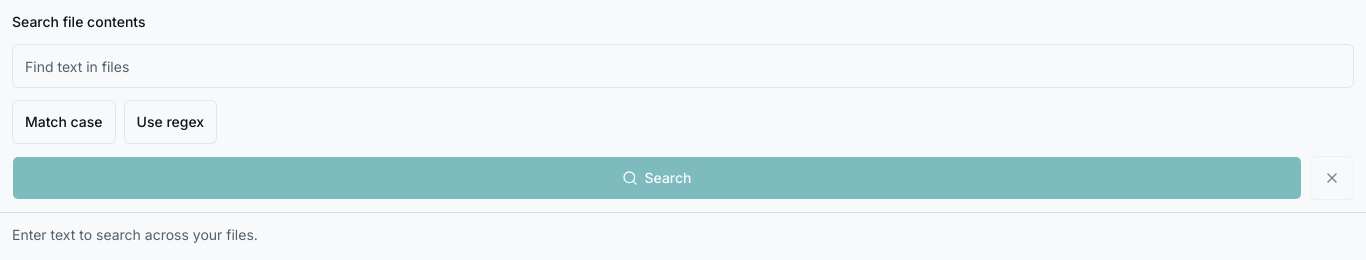
Scenario: clears an in-flight search without allowing its late response to restore results
Type "items" into the field at (683, 66), box x1=12 y1=44 x2=1354 y2=88
Then press Enter
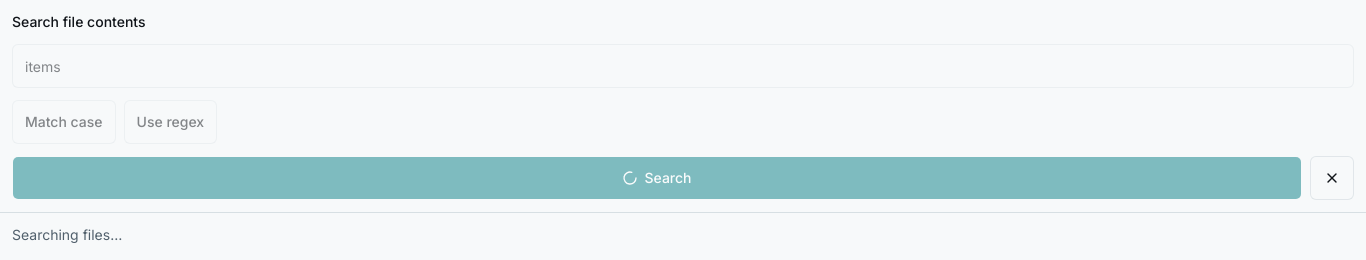
Click the button named "Clear search" at (1332, 178), box x1=1310 y1=156 x2=1354 y2=200
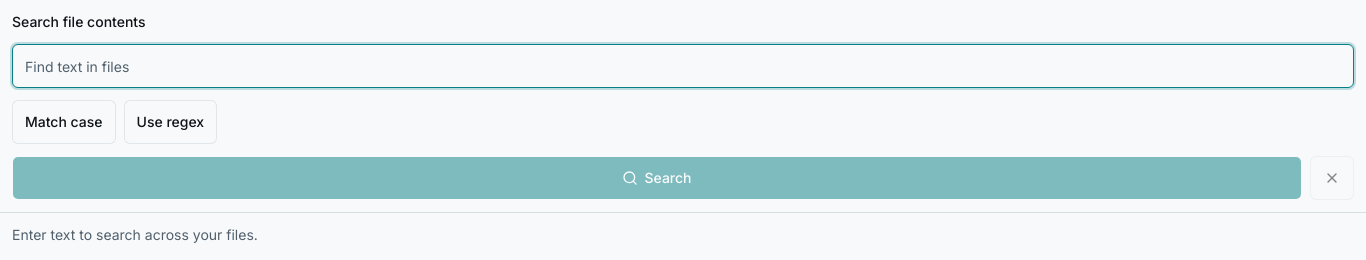
Check: the field is empty, box x1=12 y1=44 x2=1354 y2=88
